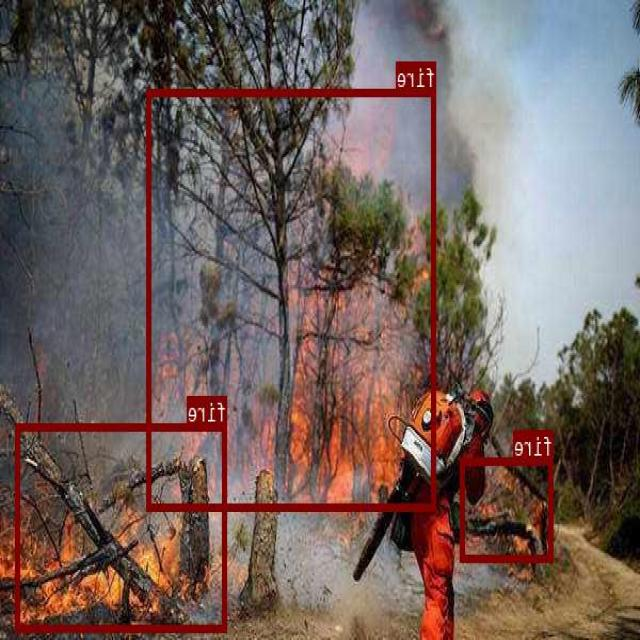fire: (147, 88, 437, 510), (16, 422, 227, 630), (461, 456, 554, 561)
